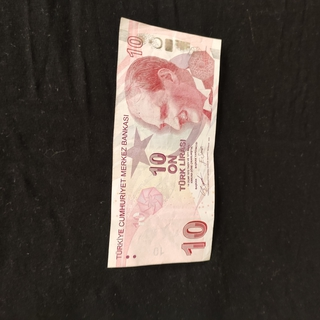10TLFront: (105, 16, 223, 269)
